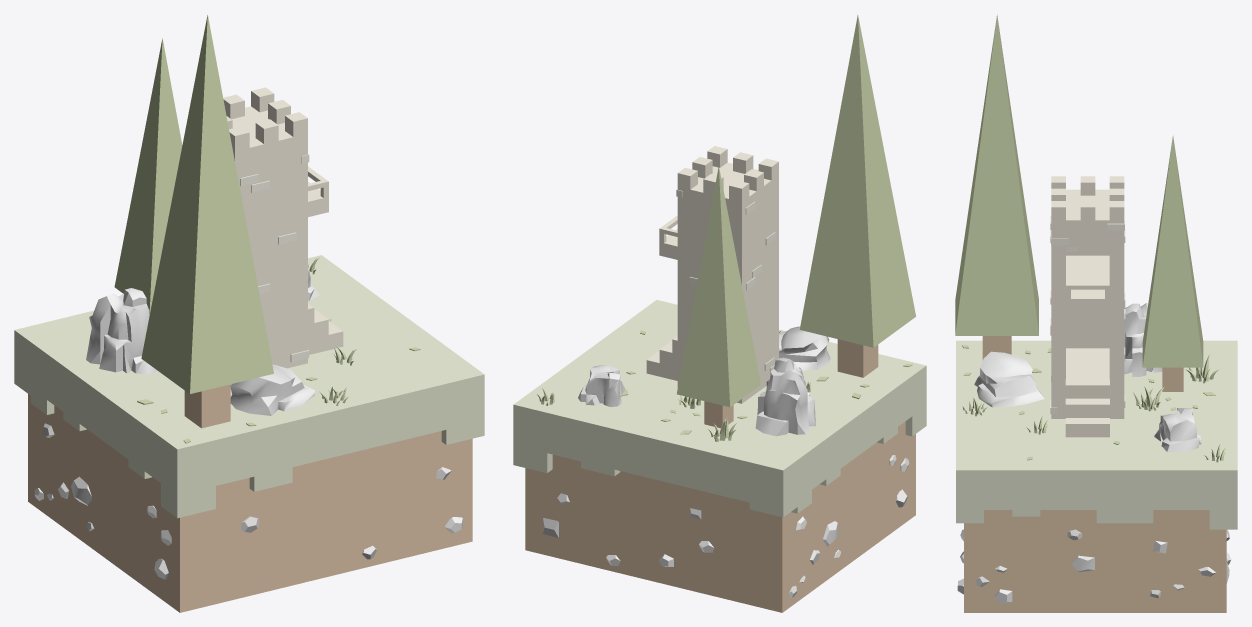
The model's file is plattform_start_2.dae.
The picture shows the model from 3 angles, left to right: view 1: azimuth 30°, elevation 25°; view 2: azimuth 150°, elevation 25°; view 3: azimuth 270°, elevation 25°; orthographic projection. The views are drawn at different scales.
Parts seen in each view (by area): view 1: top, down, treetop.001, tower.001, treetop, rock1, rock3, trunk.001, stairs, brick; view 2: top, down, treetop.001, tower.001, treetop, rock1, rock3, rock4, trunk.001, stairs, trunk; view 3: top, down, tower.001, treetop.001, treetop, rock3, stairs, rock1, rock4, brick, trunk, trunk.001.
Part boxes in pixels (x1,y1,x2,y2): top: (14, 255, 484, 518); down: (28, 394, 472, 612); treetop.001: (141, 15, 273, 393); tower.001: (223, 87, 328, 368); treetop: (114, 38, 182, 312); rock1: (86, 288, 157, 374); rock3: (230, 364, 314, 415); trunk.001: (184, 384, 230, 428); stairs: (308, 303, 343, 354); brick: (240, 154, 309, 362); top: (513, 300, 926, 517); down: (525, 421, 915, 612); treetop.001: (799, 15, 915, 347); tower.001: (659, 146, 778, 403); treetop: (677, 166, 760, 407); rock1: (755, 357, 815, 436); rock3: (779, 326, 830, 371); rock4: (578, 365, 625, 406); trunk.001: (837, 339, 878, 377); stairs: (646, 336, 677, 380); trunk: (704, 401, 733, 428); top: (956, 340, 1237, 529); down: (964, 510, 1226, 612); tower.001: (1051, 176, 1124, 418); treetop.001: (955, 14, 1038, 335); treetop: (1142, 135, 1203, 367); rock3: (974, 351, 1044, 407); stairs: (1065, 379, 1109, 437); rock1: (1124, 303, 1162, 376); rock4: (1154, 408, 1202, 452); brick: (1050, 216, 1125, 414); trunk: (1162, 367, 1183, 391); trunk.001: (982, 336, 1011, 360).
Size of the model in its own units: 210 by 194 by 375.
